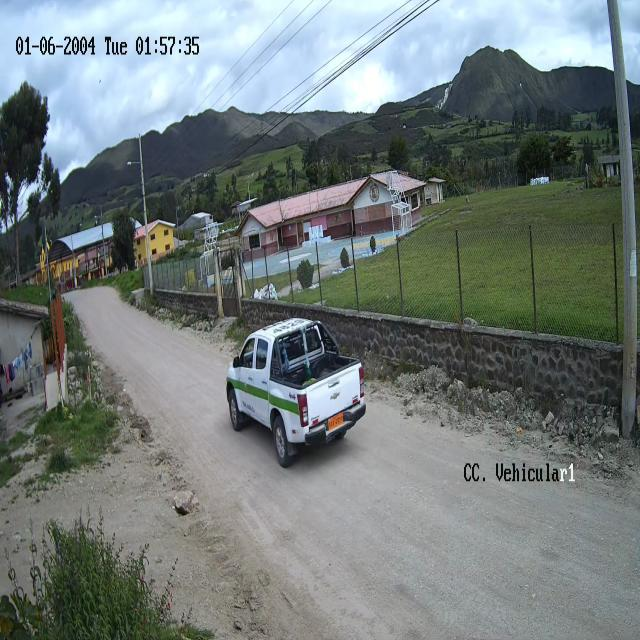CMT: (226, 319, 366, 469)
